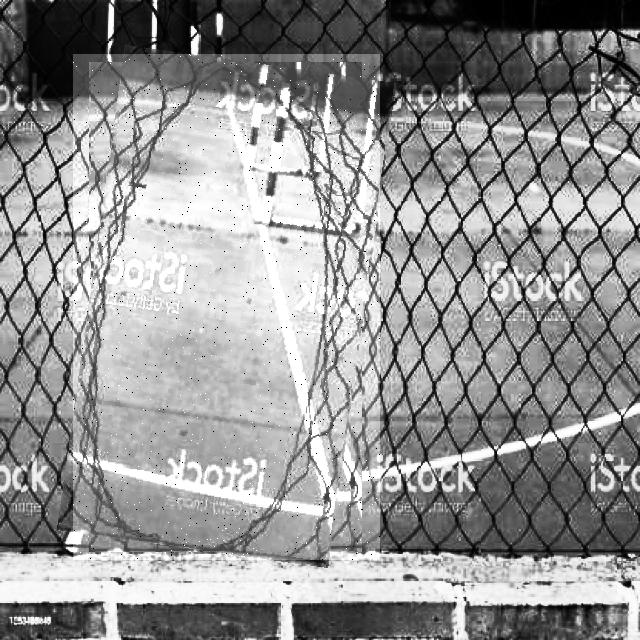anomaly-fence: (73, 54, 380, 560)
